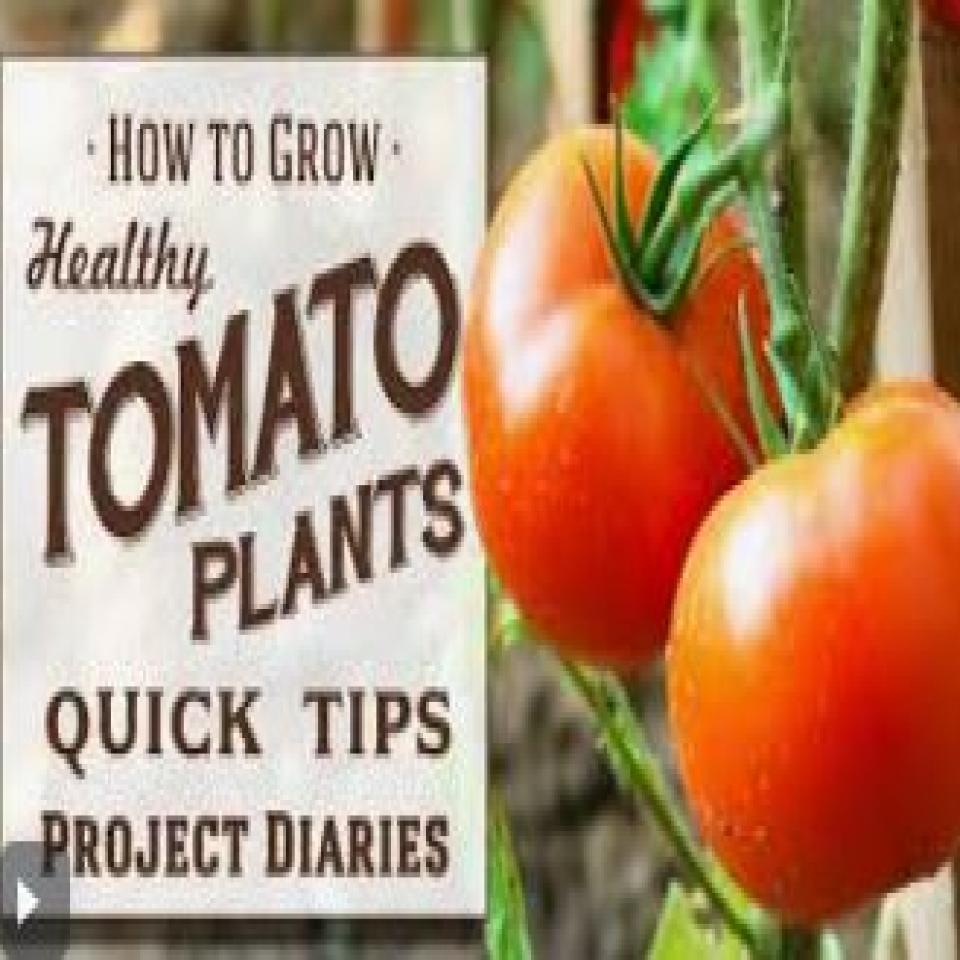Healthy: (469, 130, 792, 624), (676, 360, 959, 922)
